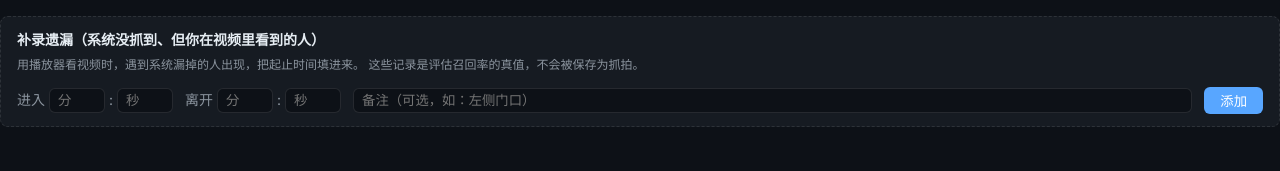
it: MissedEvents › rejects an end time earlier than the start
Type "2" into the number field labelled "进入 :" at (77, 100), box x1=49 y1=88 x2=105 y2=113
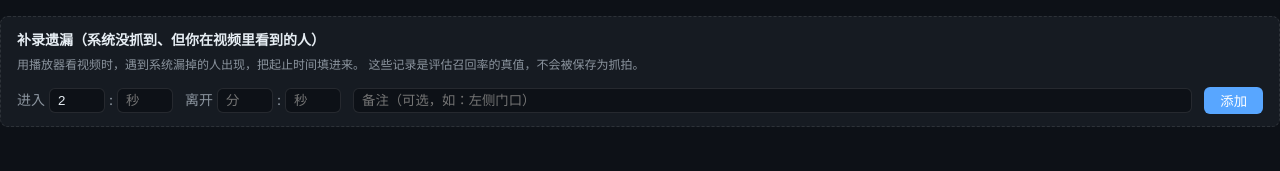
Type "0" into the number field with placeholder "秒" next to "进入" at (145, 100), box x1=117 y1=88 x2=173 y2=113
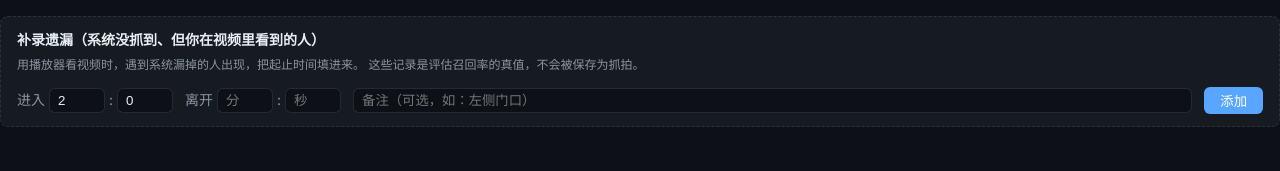
Type "1" into the number field labelled "离开 :" at (245, 100), box x1=217 y1=88 x2=273 y2=113
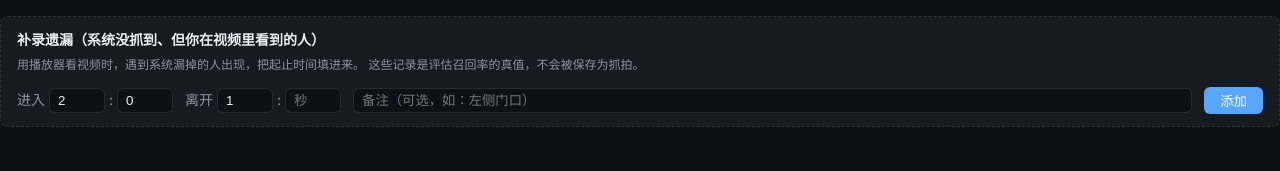
Type "0" into the number field with placeholder "秒" at (313, 100), box x1=285 y1=88 x2=341 y2=113
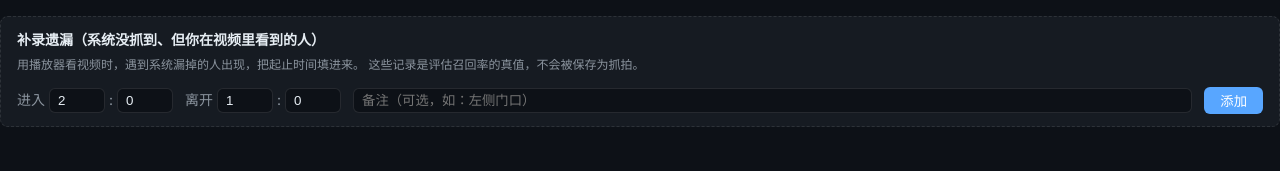
Submit the form, box x1=17 y1=87 x2=1263 y2=114
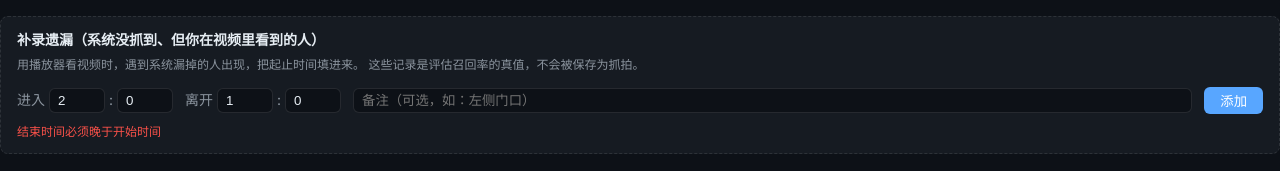
Now the text with class "error" reads "结束时间必须晚于开始时间", box x1=17 y1=124 x2=161 y2=139
